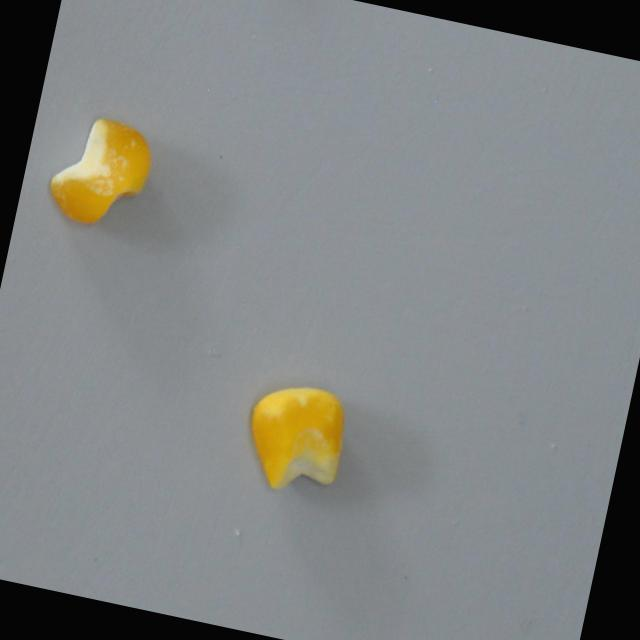pelicula: (40, 102, 163, 241)
